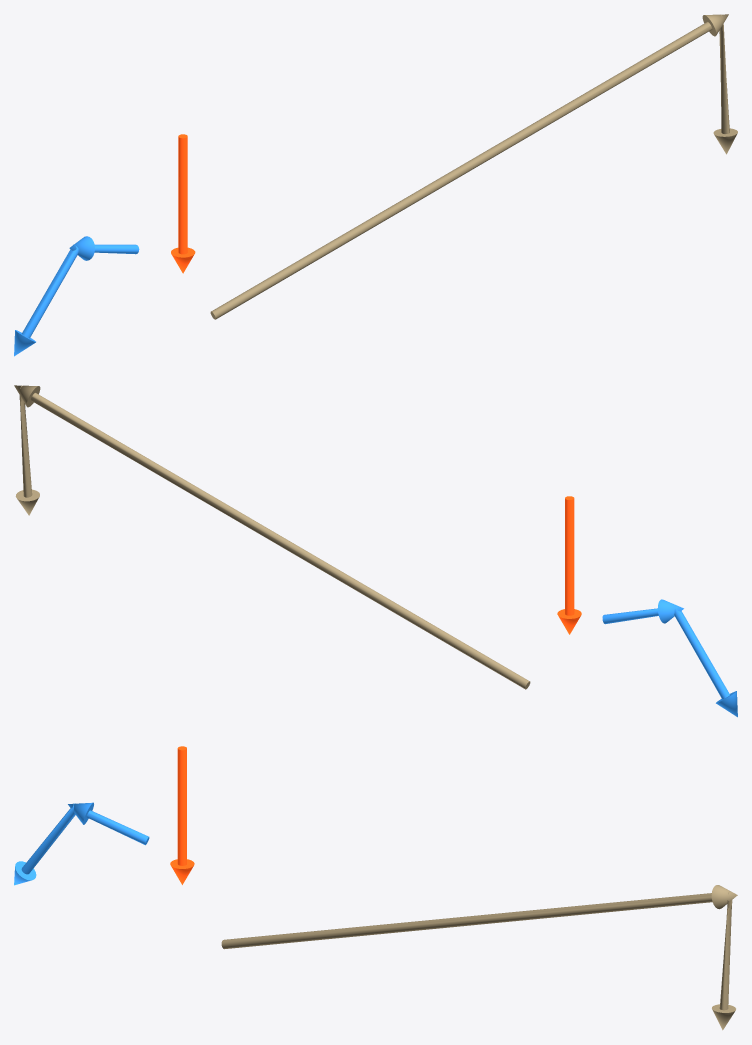
File: sand_separator_flow.glb
3 renders of one model, top to bottom at view 1: azimuth 30°, elevation 25°; view 2: azimuth 150°, elevation 25°; view 3: azimuth 330°, elevation 25°, orthographic.
Visible parts, largest first — view 1: sand.001, overflow, feed; view 2: sand.001, overflow, feed; view 3: sand.001, overflow, feed.
Boxes of the visible parts, bbox=[...] form: sand.001: bbox=[210, 14, 737, 319]; overflow: bbox=[14, 236, 139, 356]; feed: bbox=[171, 134, 195, 273]; sand.001: bbox=[14, 385, 530, 689]; overflow: bbox=[602, 599, 737, 717]; feed: bbox=[557, 496, 581, 634]; sand.001: bbox=[221, 885, 737, 1030]; overflow: bbox=[14, 802, 149, 885]; feed: bbox=[170, 746, 194, 884].
Bounding box in the file's own units: 3.52 × 0.9145 × 0.154.
